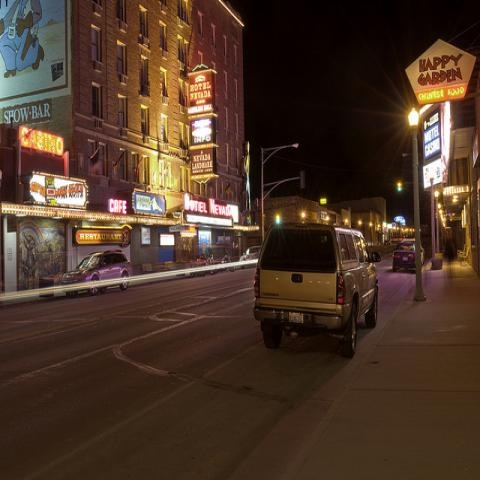car: (57, 250, 133, 300), (392, 240, 425, 274), (240, 248, 260, 261)
motorcycle: (212, 247, 236, 273)
truck: (253, 222, 381, 359)
